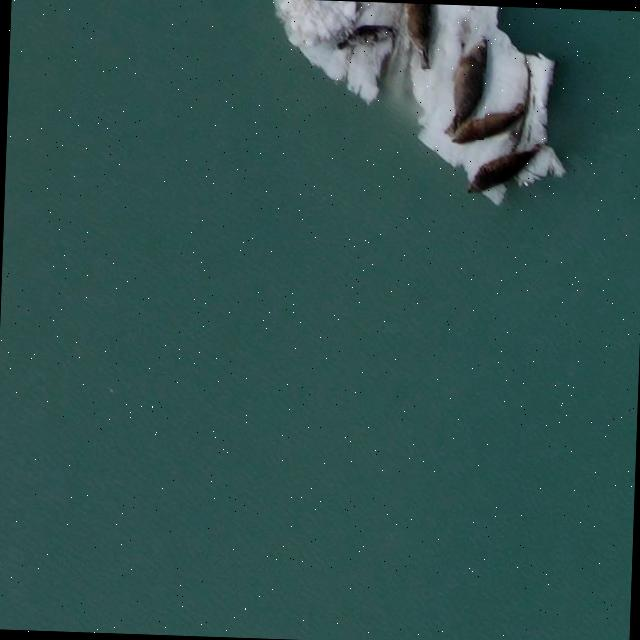seal: (459, 135, 549, 200), (443, 33, 493, 142), (447, 101, 529, 146), (405, 6, 436, 69), (337, 23, 392, 51)
